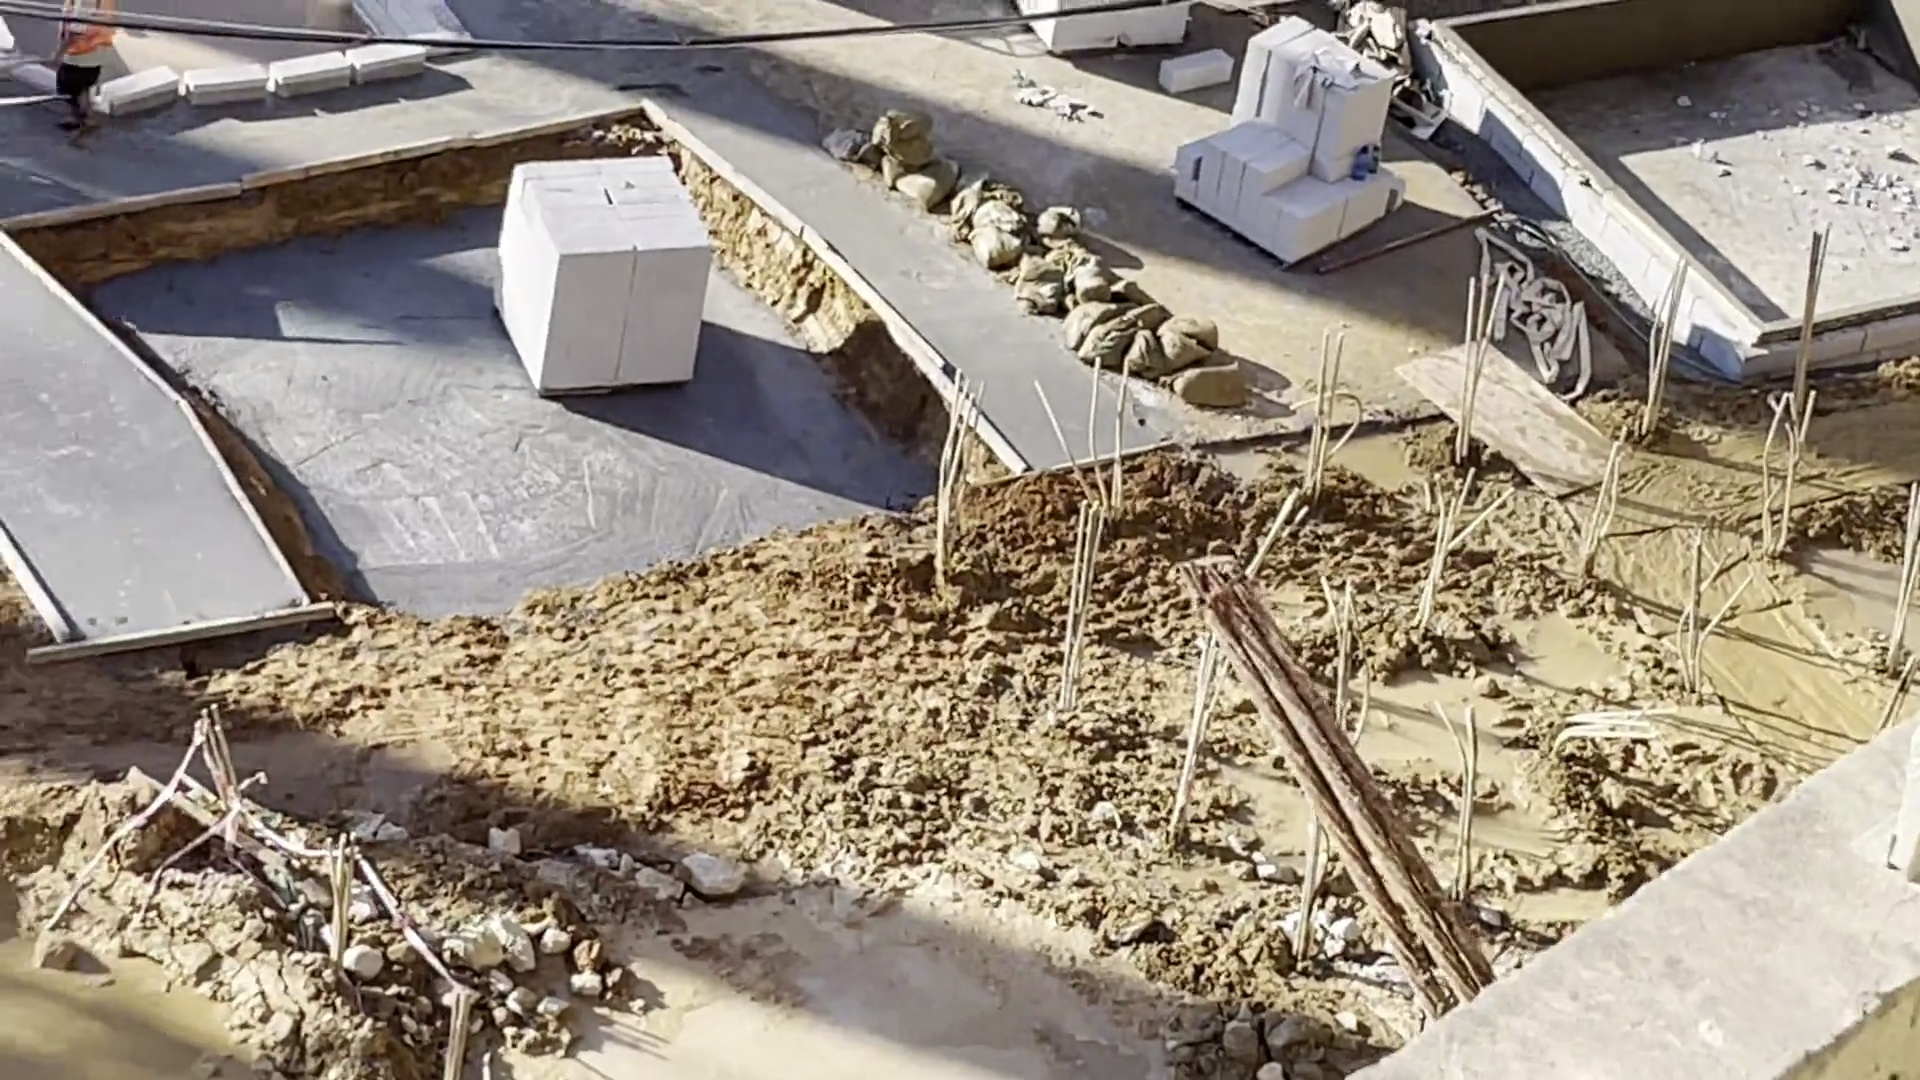brick: (1160, 19, 1412, 268), (501, 150, 715, 402)
person: (48, 4, 115, 148)
